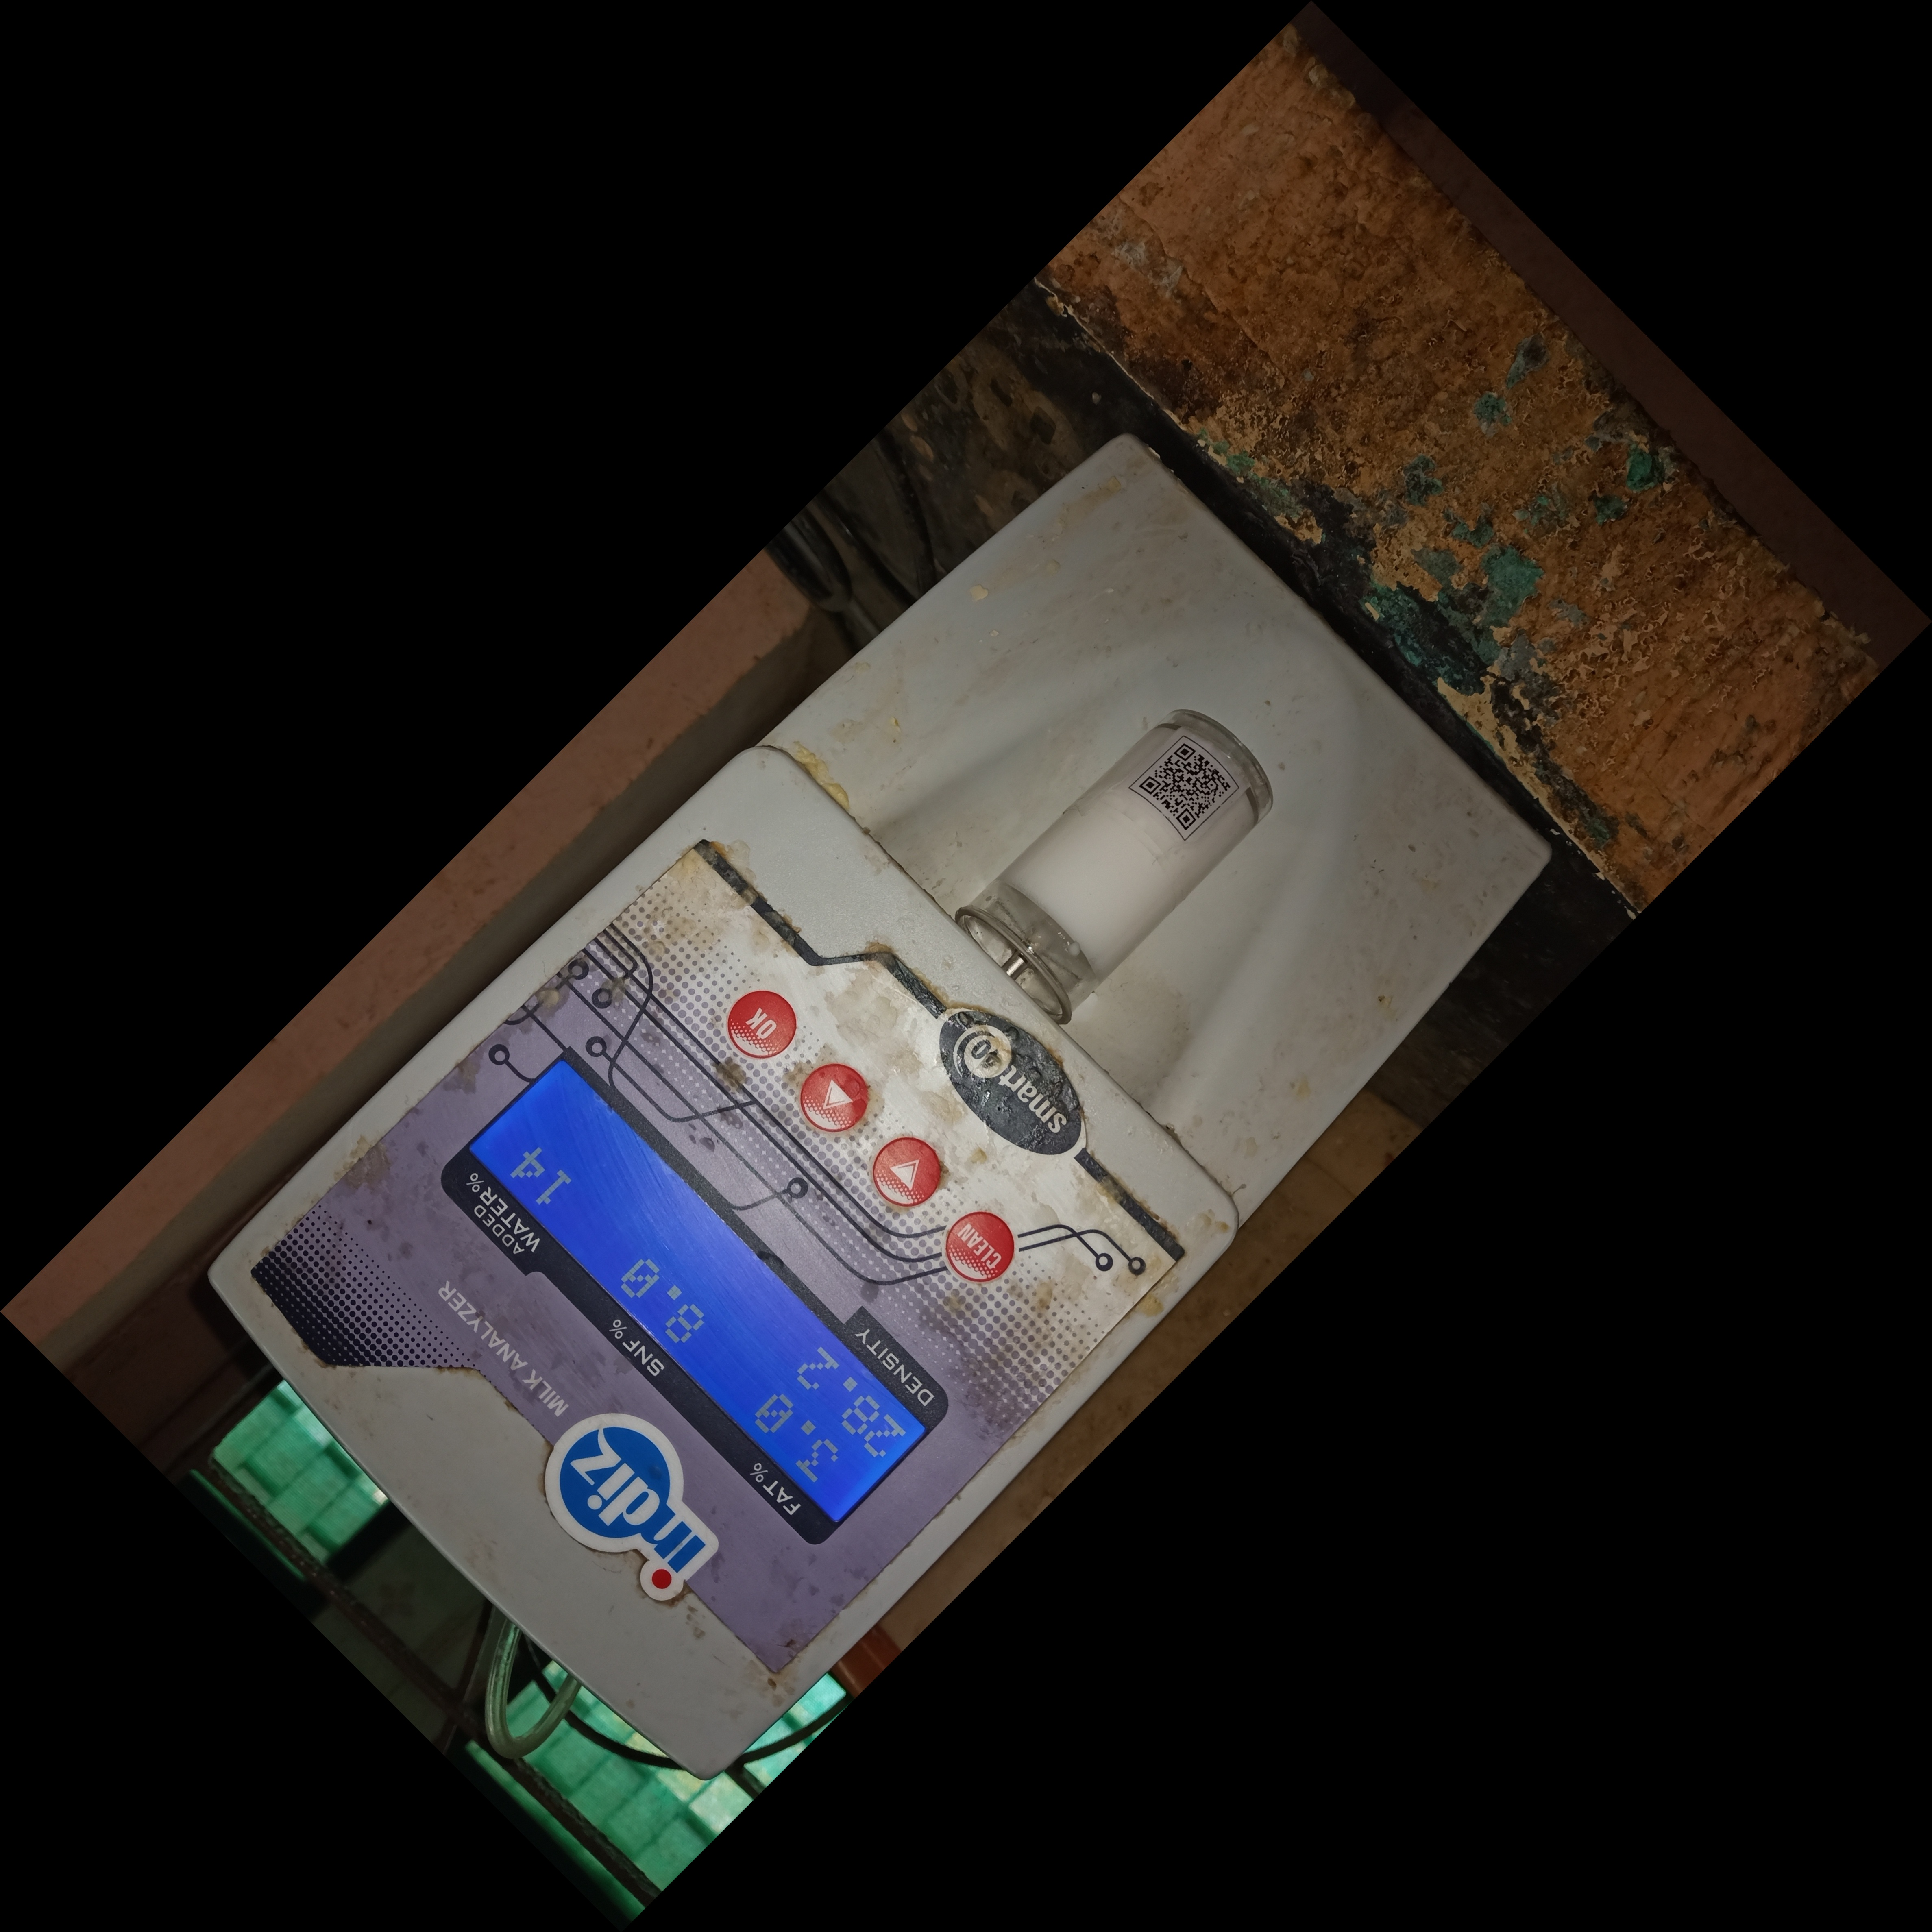lcd: (418, 1031, 964, 1532)
qr: (1120, 713, 1261, 844)
